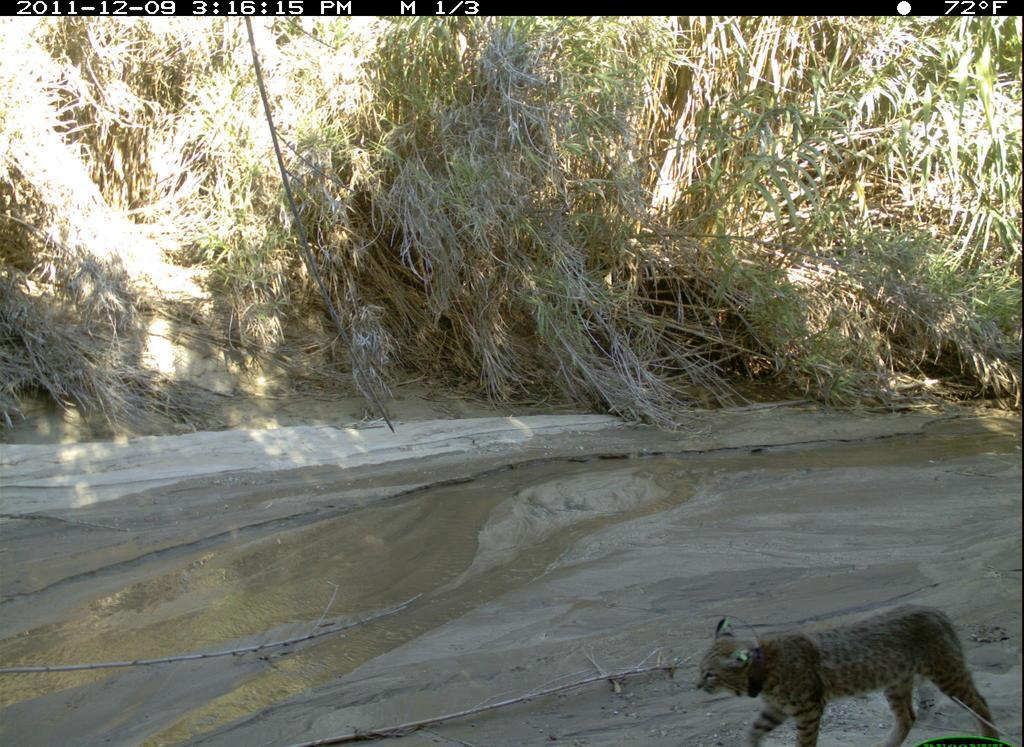bobcat: (678, 607, 1014, 747)
